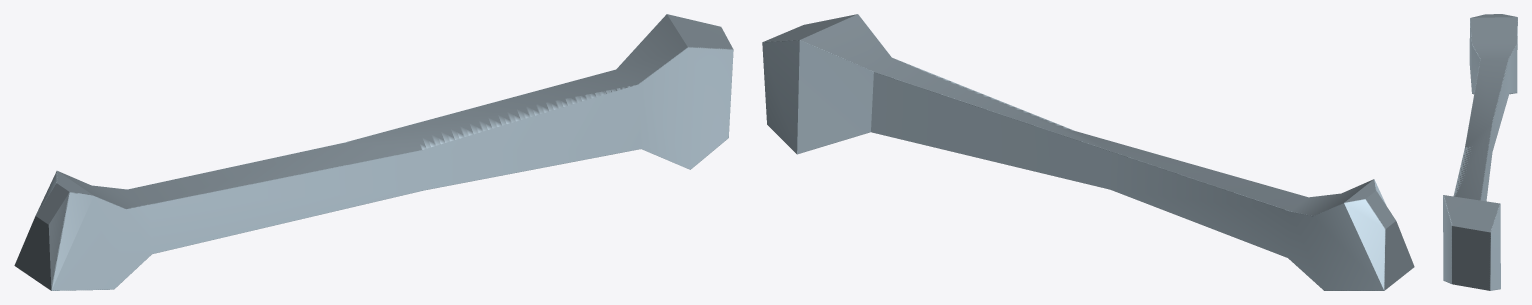
The model's file is Bone5.fbx.
3 renders of one model, left to right at view 1: azimuth 30°, elevation 25°; view 2: azimuth 150°, elevation 25°; view 3: azimuth 270°, elevation 25°, orthographic. The views are drawn at different scales.
Visible parts, largest first — view 1: Bone005; view 2: Bone005; view 3: Bone005.
Part boxes in pixels (bbox=[...]): Bone005: bbox=[14, 14, 733, 290]; Bone005: bbox=[762, 14, 1414, 290]; Bone005: bbox=[1443, 14, 1517, 290].
Size of the model in its own units: 19.57 by 2.69 by 3.42.
